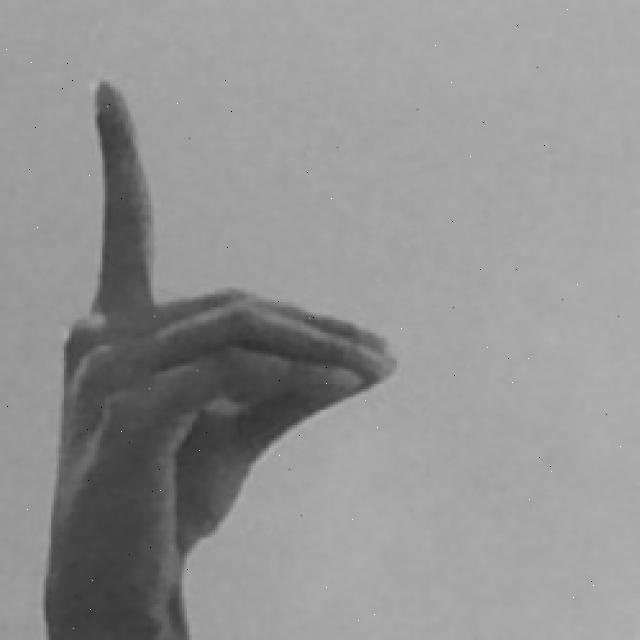D: (38, 79, 397, 640)
